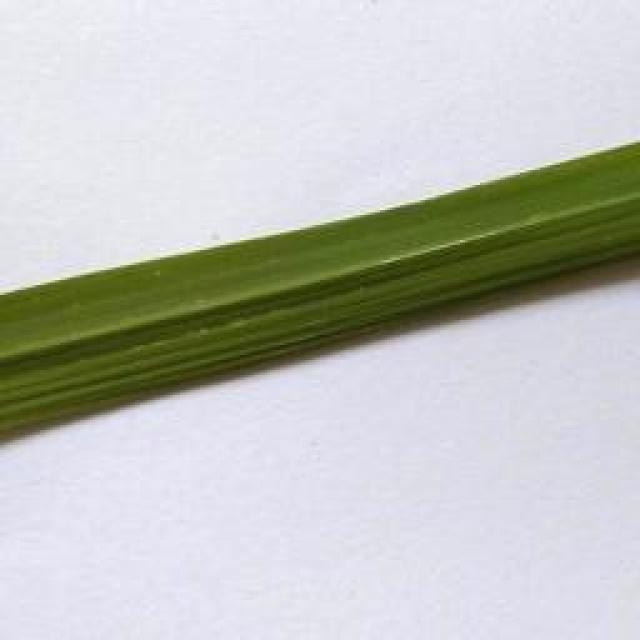Healthy-Plant: (0, 144, 640, 446)
